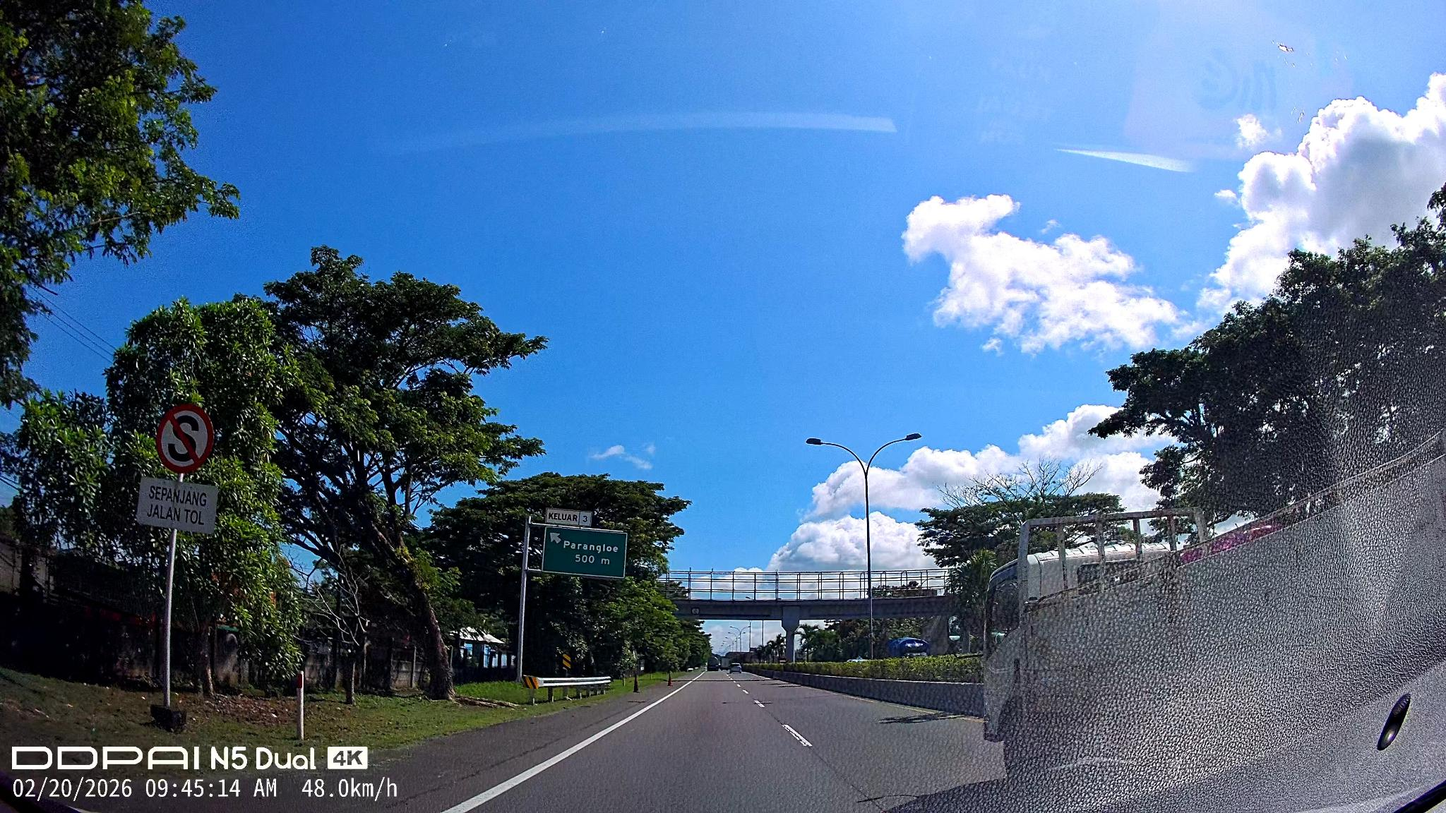rambu_teks: (541, 525, 628, 579)
